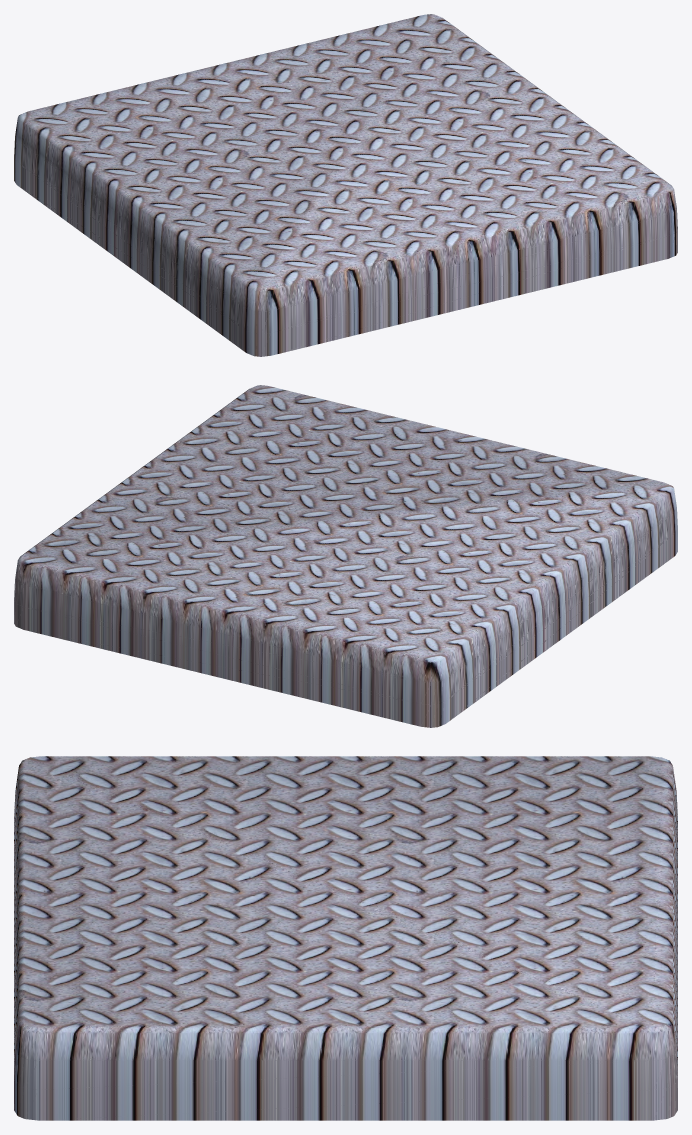
The model's file is modPlaqueTop.fbx.
The picture shows the model from 3 angles, top to bottom: view 1: azimuth 30°, elevation 25°; view 2: azimuth 150°, elevation 25°; view 3: azimuth 270°, elevation 25°; orthographic projection. The views are drawn at different scales.
Parts seen in each view (by area): view 1: modPlaqueeTop; view 2: modPlaqueeTop; view 3: modPlaqueeTop.
Part boxes in pixels (bbox=[...]): modPlaqueeTop: bbox=[14, 14, 677, 356]; modPlaqueeTop: bbox=[14, 385, 677, 727]; modPlaqueeTop: bbox=[14, 756, 677, 1120].
Bounding box in the file's own units: 2.4 × 0.3501 × 2.4.
1 material, 1 textured.
